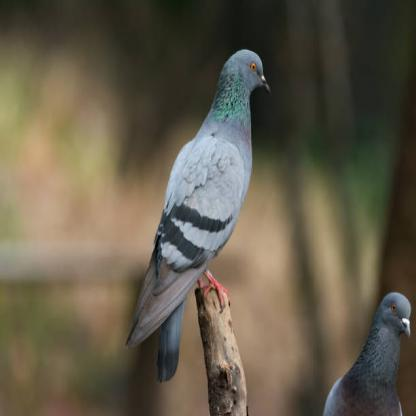Flying Rat: (115, 42, 279, 350), (313, 277, 416, 416)
